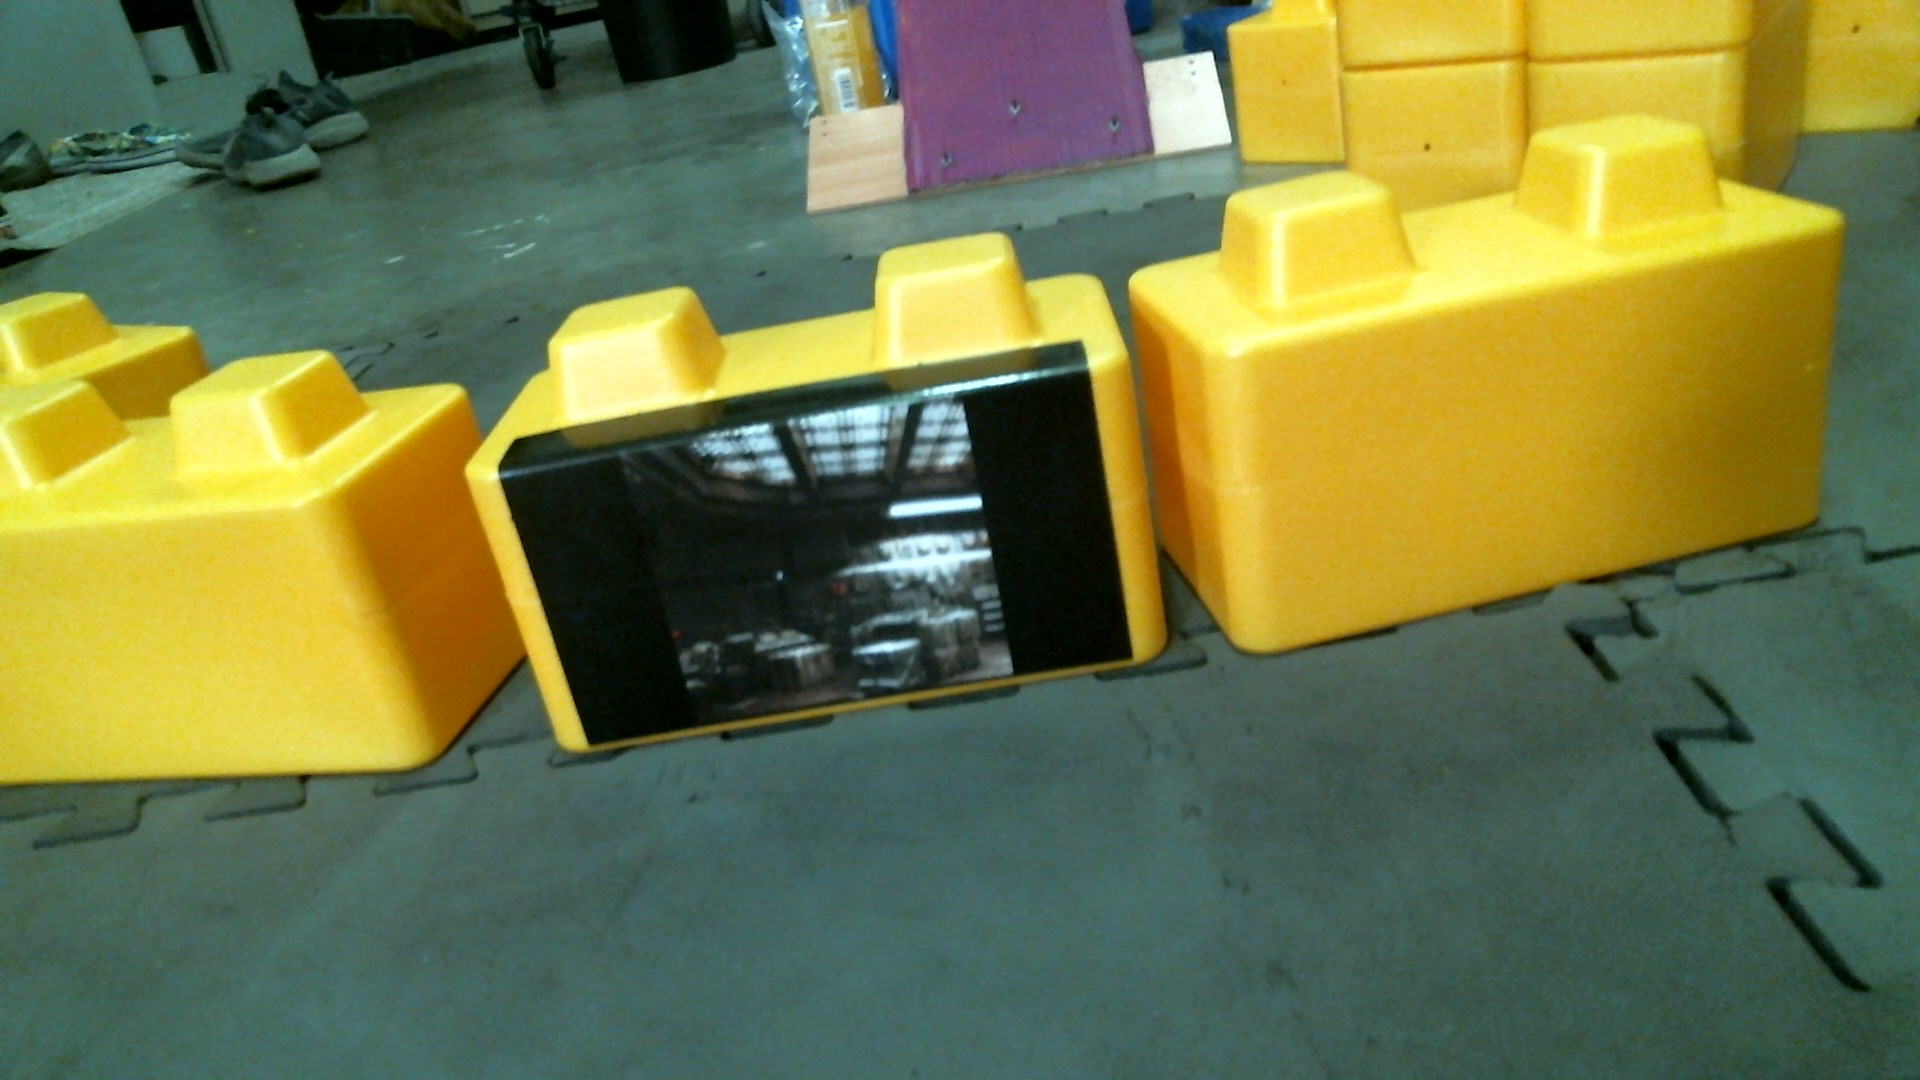skystone: (460, 224, 1160, 760)
stone: (1124, 109, 1850, 659), (1, 345, 529, 781), (1, 273, 225, 410), (1513, 54, 1762, 173), (1333, 63, 1528, 187), (1218, 1, 1344, 170), (1524, 1, 1762, 74), (1335, 1, 1535, 70)
